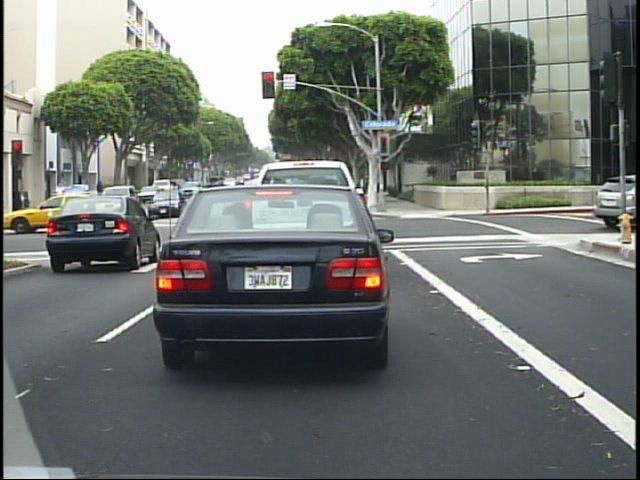person: (92, 176, 109, 211)
